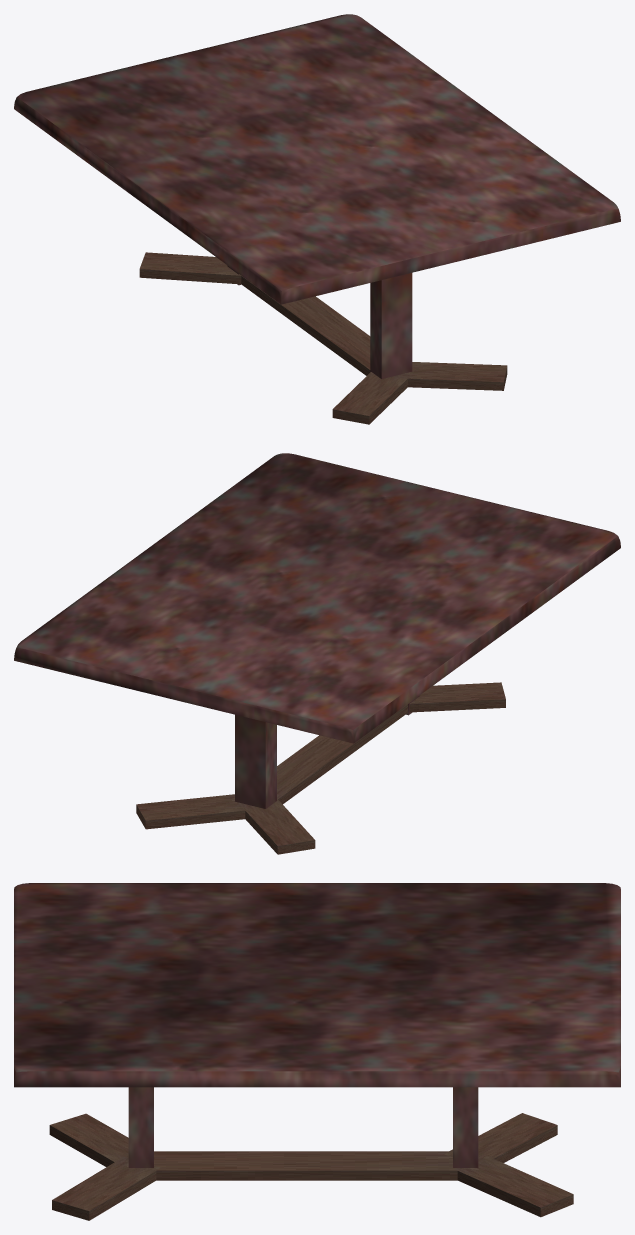
File: stolik4brazowy.glb
3 views of the same model, one above another, from view 1: azimuth 30°, elevation 25°; view 2: azimuth 150°, elevation 25°; view 3: azimuth 270°, elevation 25° (orthographic). The views are drawn at different scales.
Parts seen in each view (by area): view 1: Box001, Box004, Box002, Box008, Box006, Box005; view 2: Box001, Box003, Box002, Box007, Box005, Box006; view 3: Box001, Box002, Box007, Box008, Box005, Box006, Box003, Box004.
Boxes of the visible parts, box(x1,y1,x2,y2) form: Box001: box(14, 14, 620, 304); Box004: box(370, 273, 412, 378); Box002: box(241, 276, 415, 375); Box008: box(394, 362, 507, 390); Box006: box(139, 252, 241, 284); Box005: box(332, 372, 412, 424); Box001: box(14, 453, 620, 743); Box003: box(235, 714, 276, 808); Box002: box(233, 704, 407, 804); Box007: box(136, 794, 252, 829); Box005: box(409, 682, 505, 712); Box006: box(238, 799, 315, 854); Box001: box(14, 883, 620, 1087); Box002: box(154, 1151, 457, 1180); Box007: box(454, 1156, 573, 1217); Box008: box(52, 1157, 160, 1220); Box005: box(49, 1113, 156, 1166); Box006: box(444, 1113, 557, 1164); Box003: box(453, 1087, 478, 1167); Box004: box(128, 1087, 153, 1167).
Bounding box in the file's own units: 0.7261 × 0.3535 × 0.9888.
3 materials, 3 textured.
